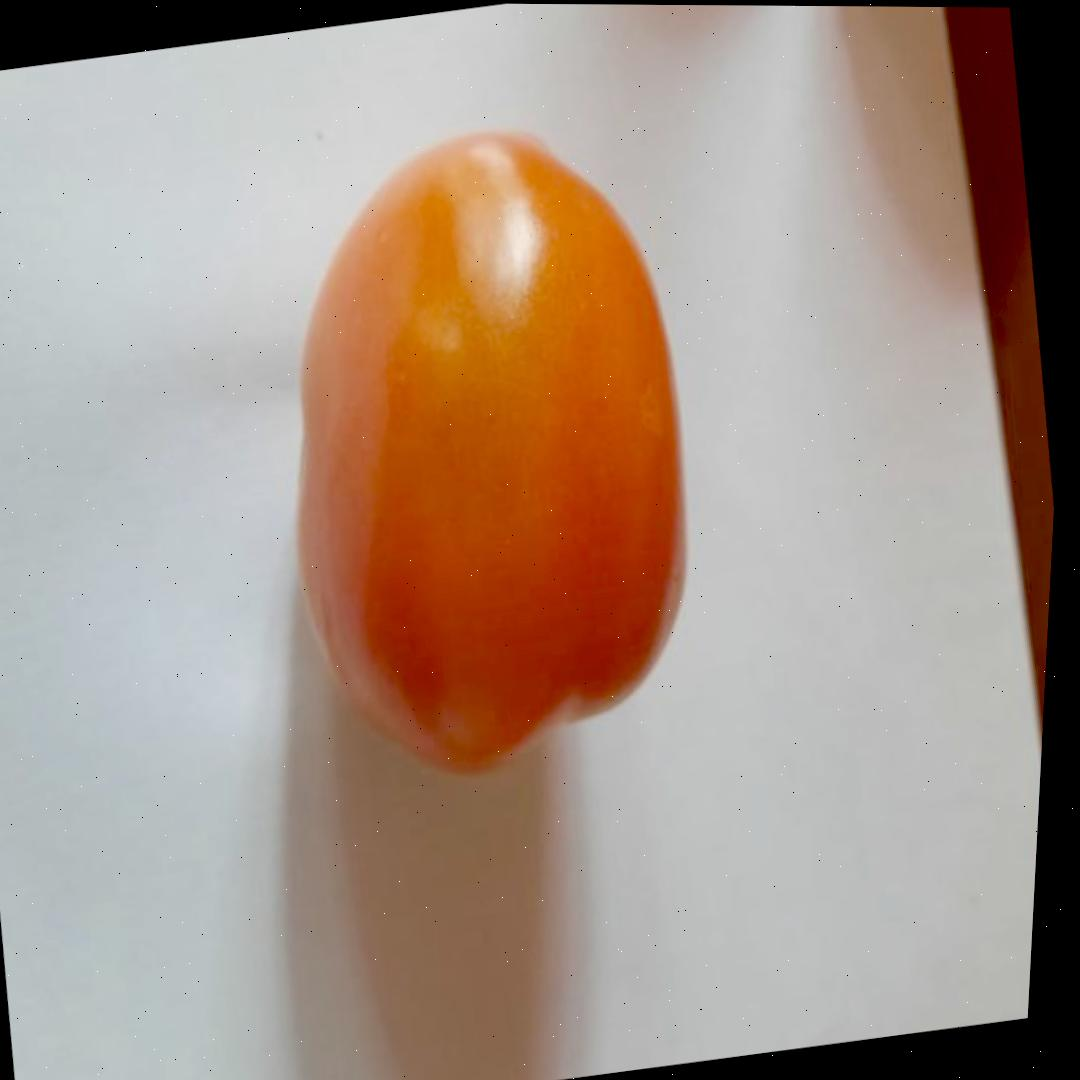matang: (226, 107, 748, 803)
